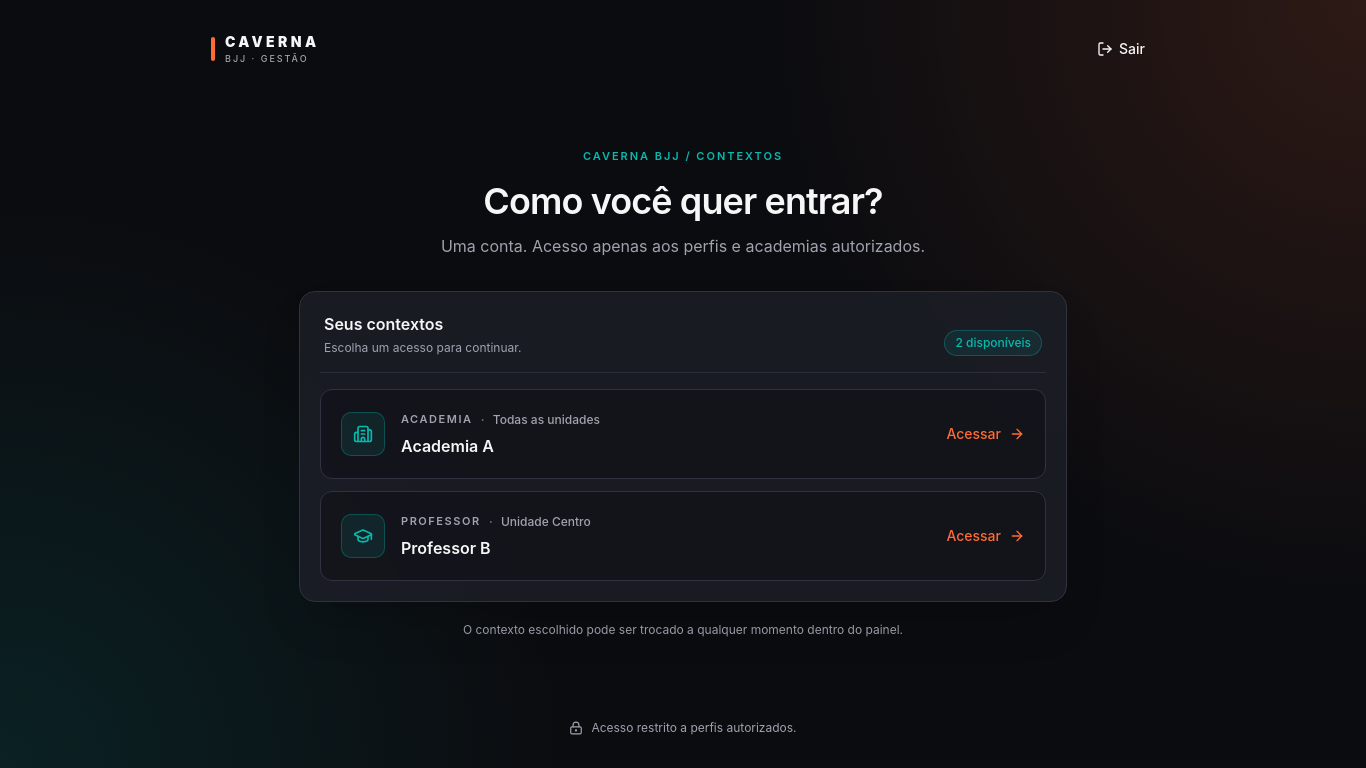
Test: ContextSelectionPage › confirms the switch and opens the destination for the role
What coordinates should you click on to do the following:
click the button with aria-label "Selecionar Academia A"
I would click on:
 (363, 434)
Its box is [320,388,1046,478].
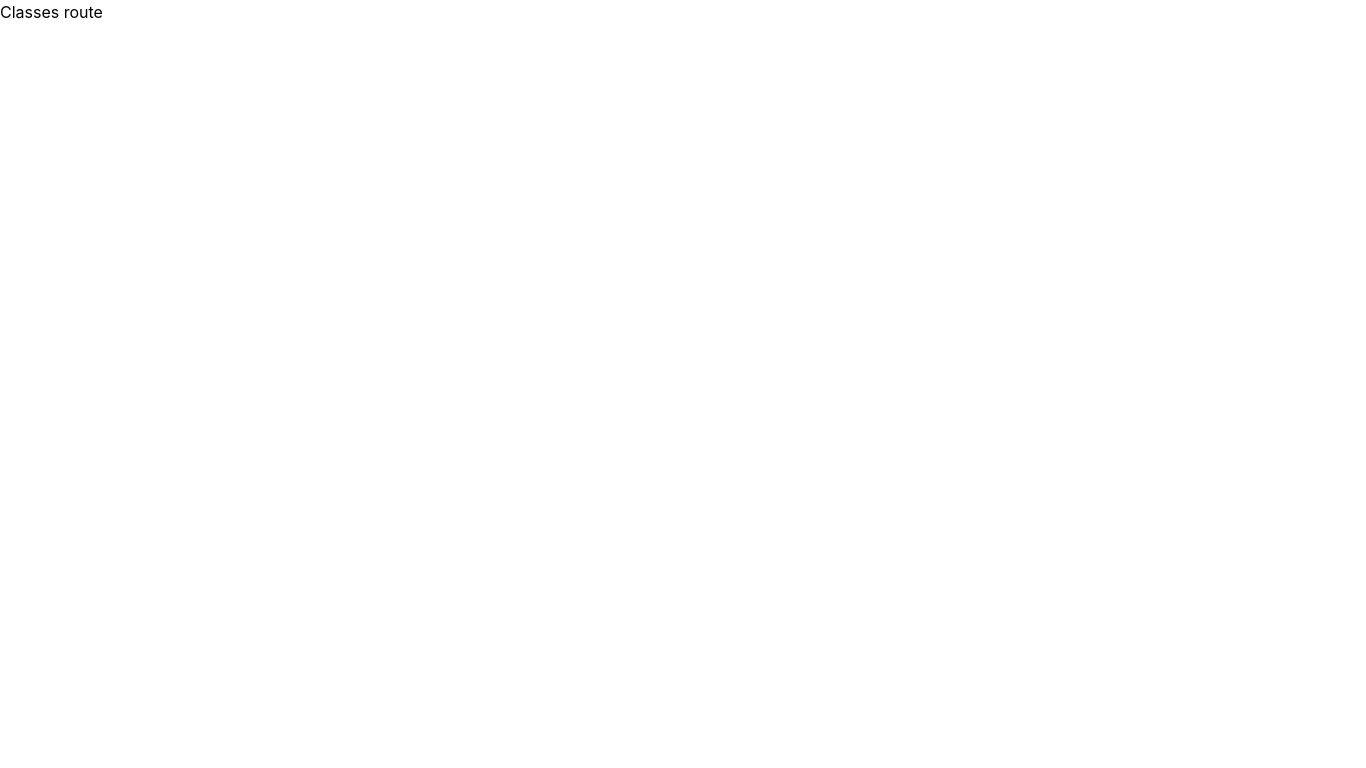
Expected: the text "Classes route" is shown, [0,2,103,22]
